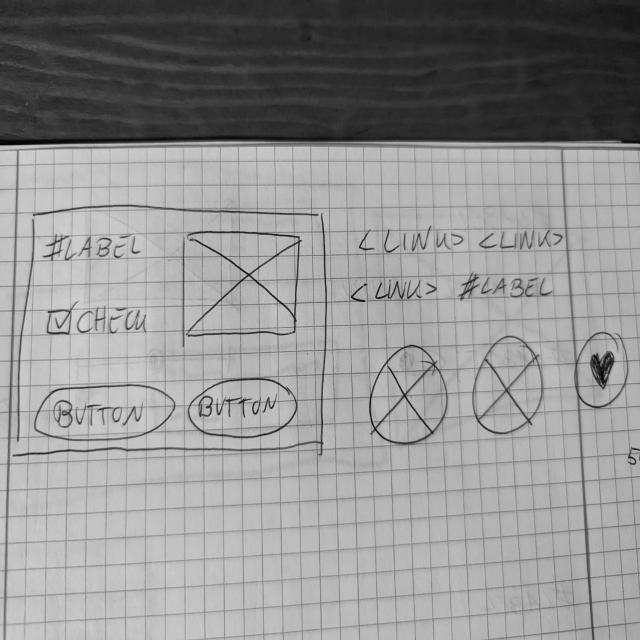button: (33, 382, 180, 444), (188, 375, 301, 441)
checkbox: (47, 299, 152, 339)
container: (14, 201, 331, 462)
icon-button: (573, 330, 631, 412)
image: (179, 230, 304, 340), (368, 342, 452, 450), (471, 334, 548, 436)
label: (457, 270, 555, 305), (44, 230, 144, 264)
link: (358, 225, 468, 257), (349, 276, 440, 309), (477, 227, 568, 254)
